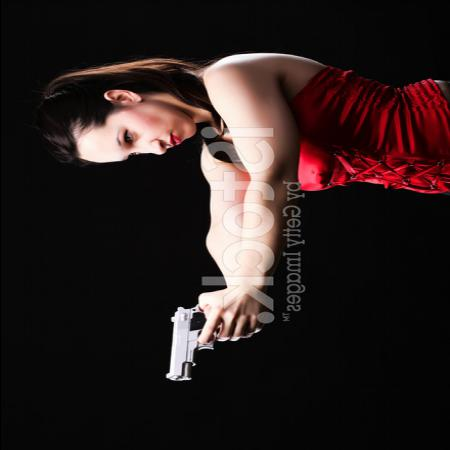Pistol: (161, 304, 225, 380)
